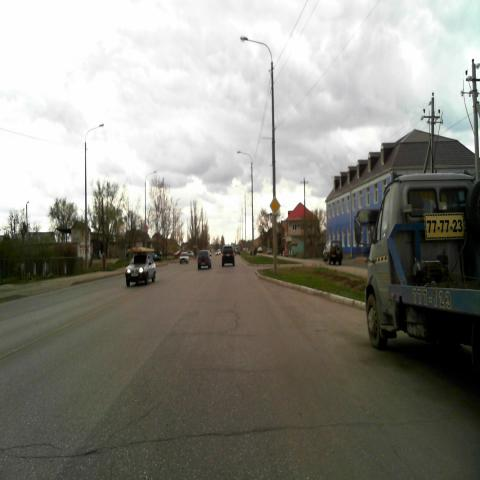2_1: (270, 196, 280, 216)
